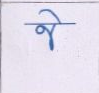e_matra: (40, 9, 63, 22)
